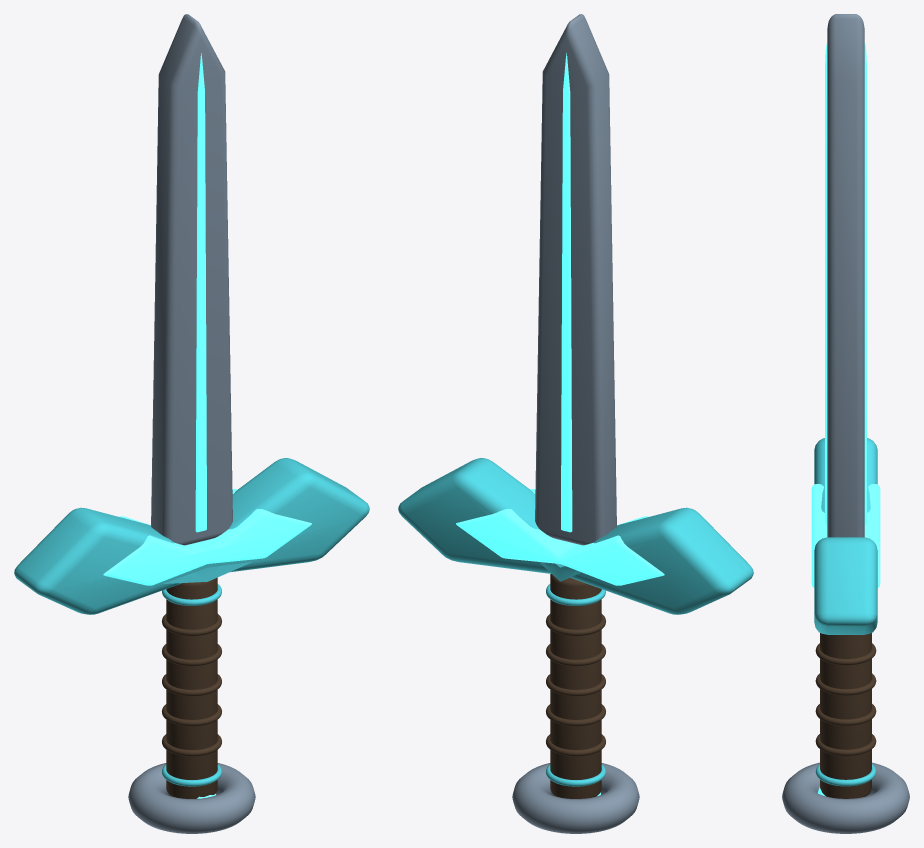
The model's file is sword.glb.
3 renders of one model, left to right at view 1: azimuth 30°, elevation 25°; view 2: azimuth 150°, elevation 25°; view 3: azimuth 270°, elevation 25°, orthographic.
Parts seen in each view (by area): view 1: FACETED_BLADE_PRIMARY, WINGED_GUARD_ACCENT, GRIP_SECONDARY, GUARD_INLAY_EMISSIVE, RING_POMMEL_PRIMARY, BLADE_FULLER_EMISSIVE; view 2: FACETED_BLADE_PRIMARY, WINGED_GUARD_ACCENT, GRIP_SECONDARY, GUARD_INLAY_EMISSIVE, RING_POMMEL_PRIMARY, BLADE_FULLER_EMISSIVE; view 3: FACETED_BLADE_PRIMARY, WINGED_GUARD_ACCENT, GRIP_SECONDARY, RING_POMMEL_PRIMARY, BLADE_FULLER_EMISSIVE, GUARD_INLAY_EMISSIVE, GRIP_WRAP_SECONDARY.003, GRIP_WRAP_ACCENT, GRIP_WRAP_SECONDARY.002, GRIP_WRAP_SECONDARY.001, GRIP_WRAP_SECONDARY.
Part boxes in pixels (box(x1,y1,x2,y2)): FACETED_BLADE_PRIMARY: box(151, 14, 232, 545); WINGED_GUARD_ACCENT: box(14, 458, 369, 614); GRIP_SECONDARY: box(166, 577, 217, 798); GUARD_INLAY_EMISSIVE: box(103, 489, 311, 585); RING_POMMEL_PRIMARY: box(128, 763, 255, 833); BLADE_FULLER_EMISSIVE: box(195, 53, 206, 532); FACETED_BLADE_PRIMARY: box(535, 14, 616, 545); WINGED_GUARD_ACCENT: box(398, 458, 753, 614); GRIP_SECONDARY: box(550, 574, 601, 798); GUARD_INLAY_EMISSIVE: box(456, 489, 664, 585); RING_POMMEL_PRIMARY: box(512, 763, 639, 833); BLADE_FULLER_EMISSIVE: box(561, 53, 572, 532); FACETED_BLADE_PRIMARY: box(827, 14, 864, 537); WINGED_GUARD_ACCENT: box(814, 438, 877, 634); GRIP_SECONDARY: box(820, 633, 871, 798); RING_POMMEL_PRIMARY: box(782, 762, 909, 833); BLADE_FULLER_EMISSIVE: box(825, 43, 866, 524); GUARD_INLAY_EMISSIVE: box(811, 484, 880, 587); GRIP_WRAP_SECONDARY.003: box(815, 643, 876, 665); GRIP_WRAP_ACCENT: box(815, 764, 876, 786); GRIP_WRAP_SECONDARY.002: box(815, 673, 876, 695); GRIP_WRAP_SECONDARY.001: box(815, 704, 876, 725); GRIP_WRAP_SECONDARY: box(815, 734, 876, 755).
Bounding box in the file's own units: 2.1 × 4.78 × 0.69.
